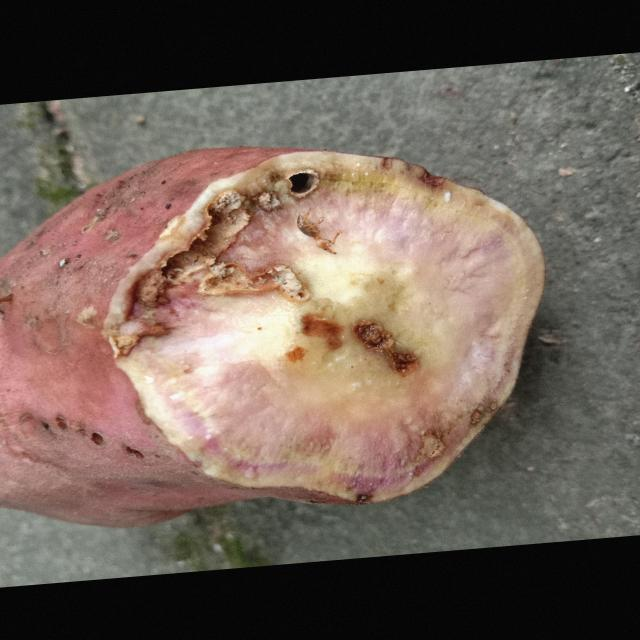Sick Sweet Potato_Tuber Rot: (105, 151, 545, 502)
